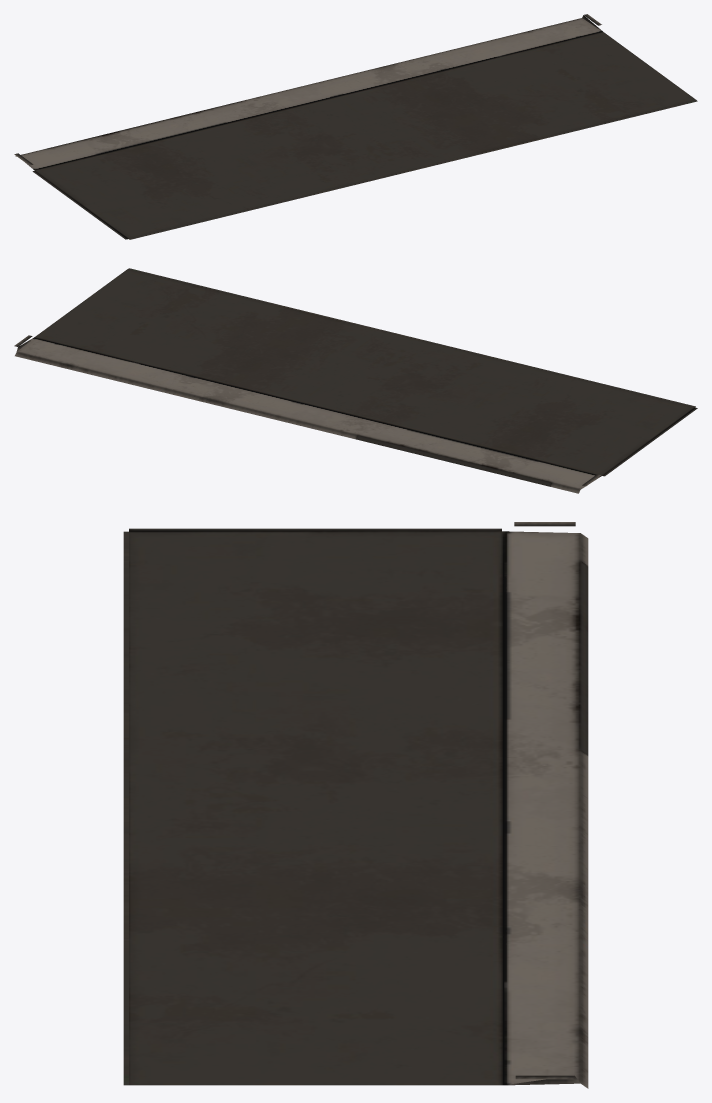
The model's file is bottom.gltf.
3 renders of one model, top to bottom at view 1: azimuth 30°, elevation 25°; view 2: azimuth 150°, elevation 25°; view 3: azimuth 270°, elevation 25°, orthographic. The views are drawn at different scales.
Visible parts, largest first — view 1: BOTTOM; view 2: BOTTOM; view 3: BOTTOM.
Boxes of the visible parts, bbox=[...] form: BOTTOM: bbox=[14, 14, 697, 239]; BOTTOM: bbox=[14, 268, 697, 493]; BOTTOM: bbox=[123, 522, 588, 1088].
Size of the model in its own units: 2.65 by 0.0295 by 0.9301.
Materials: 1 (1 with a texture image).
